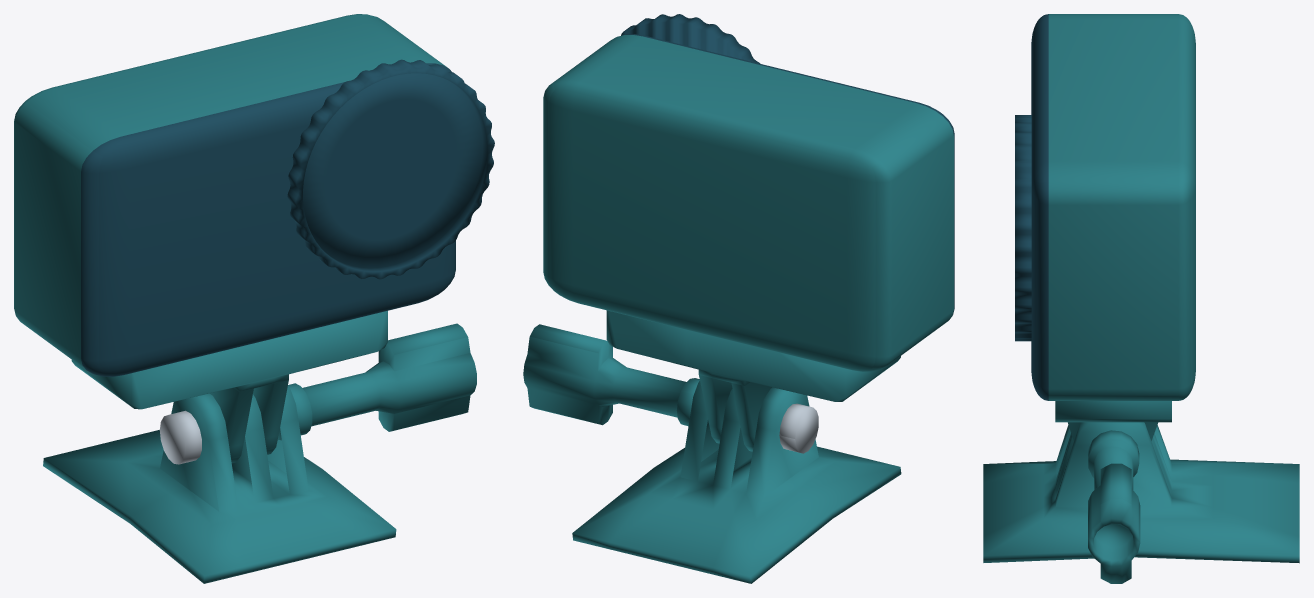
The model's file is action_camera.glb.
The picture shows the model from 3 angles, left to right: view 1: azimuth 30°, elevation 25°; view 2: azimuth 150°, elevation 25°; view 3: azimuth 270°, elevation 25°; orthographic projection. The views are drawn at different scales.
Parts seen in each view (by area): view 1: action_camera; view 2: action_camera; view 3: action_camera.
Part boxes in pixels (x1=…): action_camera: x1=14, y1=14, x2=494, y2=583; action_camera: x1=523, y1=14, x2=954, y2=583; action_camera: x1=983, y1=14, x2=1299, y2=583.
Bounding box in the file's own units: 0.1345 × 0.14 × 0.0902.
